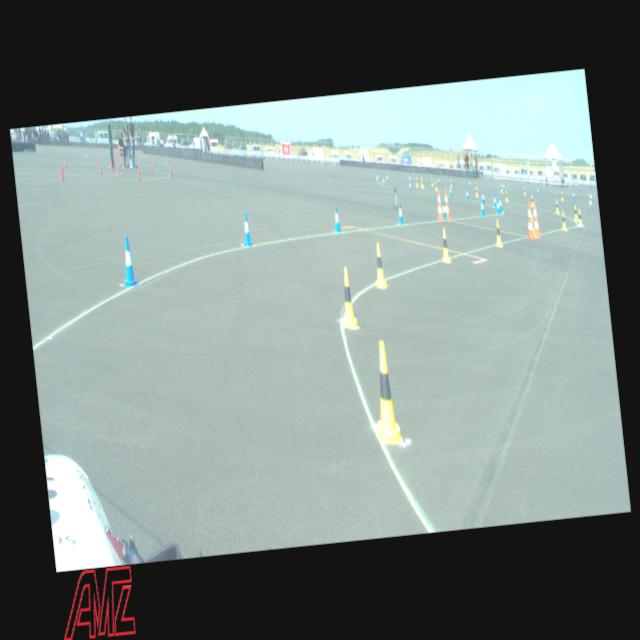blue_cone: (118, 234, 138, 286), (240, 211, 252, 246), (332, 206, 341, 232), (396, 202, 404, 224), (441, 200, 446, 220), (479, 198, 484, 216), (495, 198, 500, 214), (498, 196, 502, 212), (492, 193, 496, 207), (481, 191, 485, 204), (464, 188, 468, 199), (448, 185, 452, 196), (408, 180, 412, 190), (572, 191, 575, 200), (382, 176, 385, 185), (468, 179, 471, 187), (437, 176, 440, 184), (386, 172, 388, 182), (536, 186, 538, 195), (590, 192, 592, 201), (376, 174, 378, 182), (502, 182, 504, 190), (408, 174, 410, 182)
large_orange_cone: (524, 201, 534, 239), (531, 201, 541, 238), (434, 188, 444, 220), (442, 188, 450, 220)
unknown_cone: (60, 167, 64, 180), (137, 168, 141, 180), (98, 164, 102, 174), (60, 162, 64, 172), (110, 162, 114, 171), (117, 163, 120, 173), (64, 158, 67, 166), (169, 167, 171, 176), (150, 162, 152, 170), (154, 158, 156, 165), (96, 156, 98, 163)
yellow_cone: (366, 339, 403, 445), (337, 266, 358, 328), (370, 242, 388, 288), (438, 228, 451, 262), (493, 218, 502, 248), (560, 210, 568, 230), (531, 215, 536, 238), (572, 204, 578, 220), (577, 208, 582, 226), (554, 198, 559, 214), (529, 194, 534, 207), (504, 190, 508, 202), (474, 186, 478, 196), (588, 194, 592, 204), (560, 191, 564, 200), (414, 177, 418, 186), (522, 186, 526, 194), (474, 180, 477, 190), (420, 178, 423, 188), (434, 180, 437, 190), (430, 177, 433, 186), (420, 176, 422, 185), (500, 184, 502, 192)
